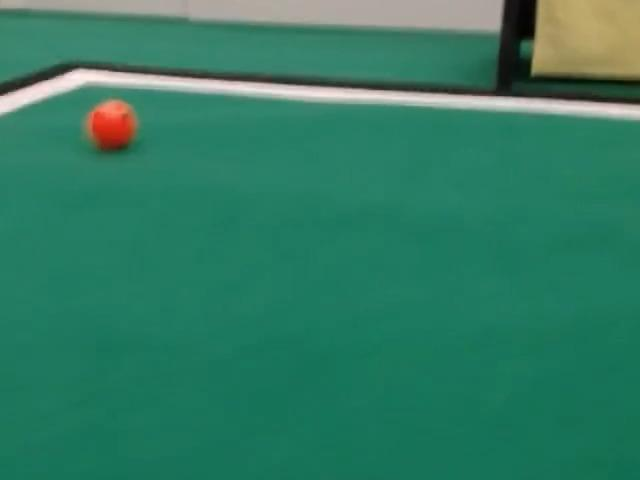Ball: (85, 99, 137, 150)
